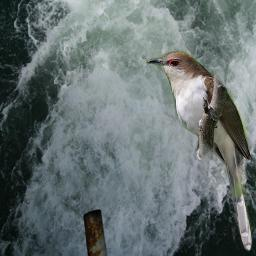Cuckoo: (144, 50, 253, 253)
